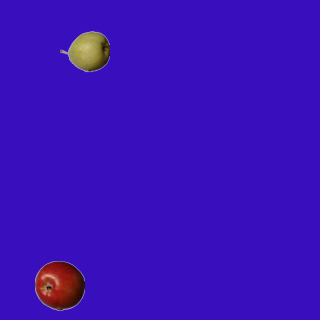Apple Braeburn: (34, 260, 84, 310)
Pear: (59, 26, 109, 76)
